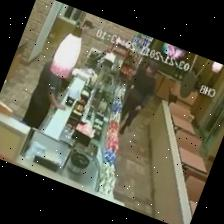person: (22, 61, 63, 128), (119, 61, 156, 134)
